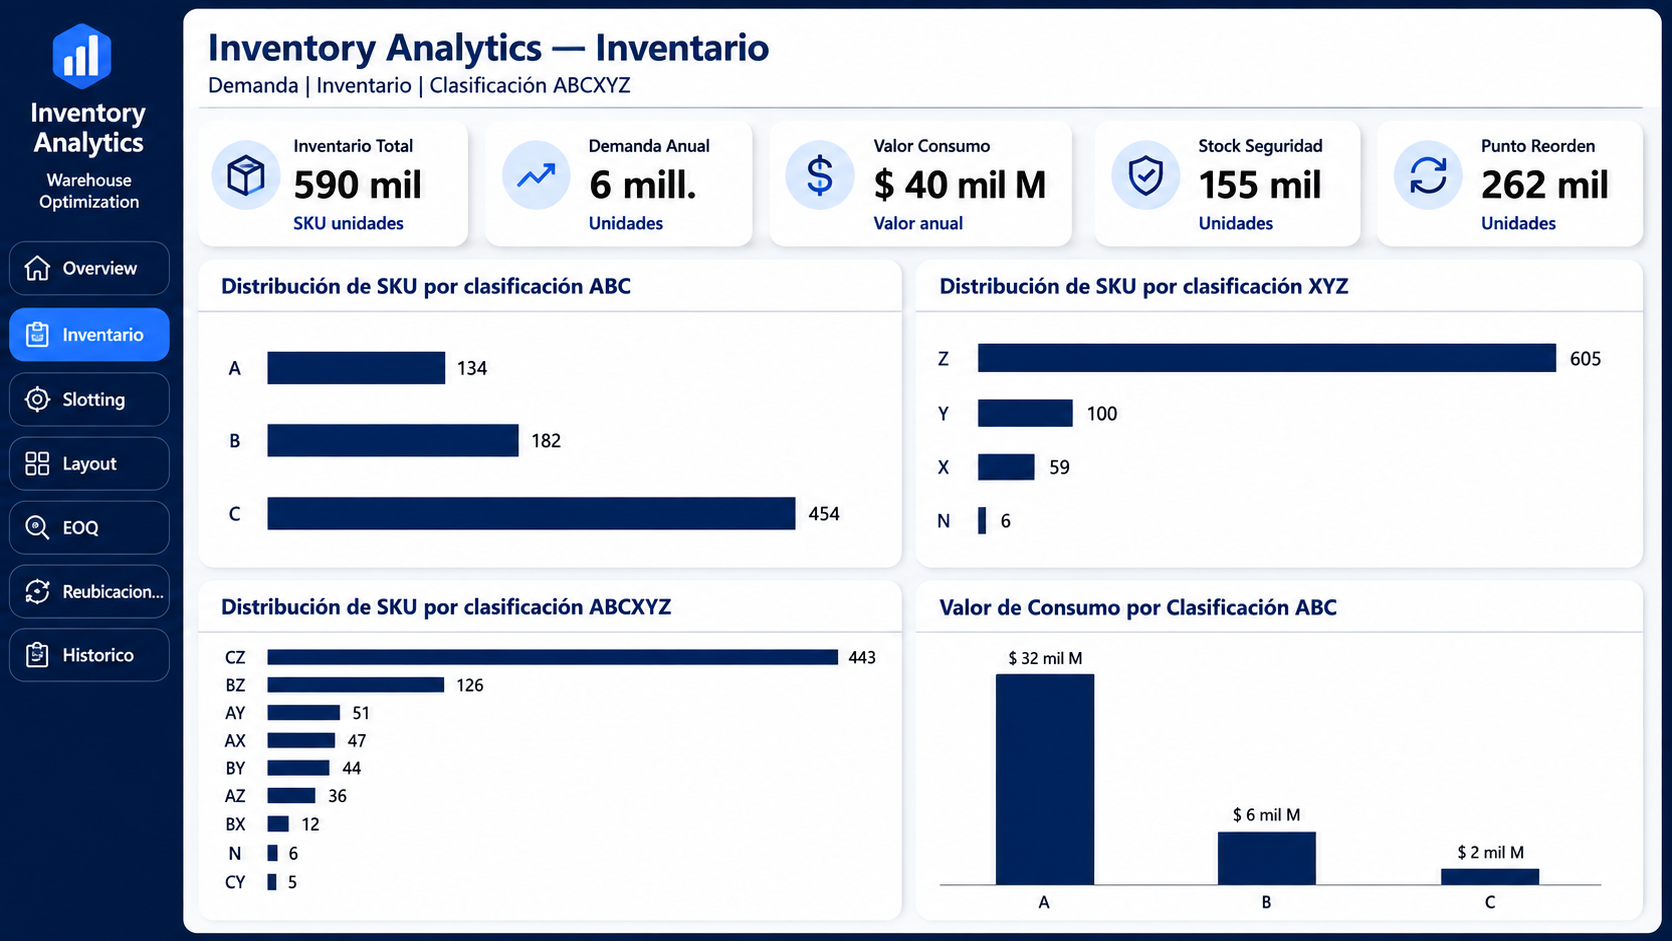

This screenshot's page, from the dashboard's own definition file:
{"tool":"powerbi","page":{"name":"Inventario","canvas":[1920,1080],"ordinal":1},"visuals":[{"type":"group","id":"g1","title":"Grupo 1","box":[0,25,1885,1040],"z":0},{"type":"shape","box":[240,25,1645,1040],"z":0,"group":"g1"},{"type":"shape","box":[0,25.9,239.8,1026],"z":1000,"group":"g1"},{"type":"cardVisual","title":"Total SKU","fields":{"Data":["Medidas.Inventario Total"]},"box":[386,138.8,200,110],"z":1000},{"type":"cardVisual","title":"SKU Optimos","fields":{"Data":["Medidas.Demanda Anual"]},"box":[634,138.8,200,110],"z":2000},{"type":"shape","box":[42.5,200,170,37.5],"z":2000,"group":"g1"},{"type":"textbox","box":[28.1,99.4,185.8,118.8],"z":3000,"group":"g1"},{"type":"cardVisual","title":"SKU a Mover","fields":{"Data":["Medidas.Valor Consumo"]},"box":[882,138.8,250.6,110.2],"z":3000},{"type":"cardVisual","title":"SKU Mover Urgentes","fields":{"Data":["Medidas.Stock Seguridad"]},"box":[1178,138.8,240,110],"z":4000},{"type":"pageNavigator","box":[28.1,237.6,185.8,773.3],"z":4000,"group":"g1"},{"type":"textbox","box":[256,40,510,75],"z":5000,"group":"g1"},{"type":"cardVisual","title":"SKU Sin Ubicacion","fields":{"Data":["Medidas.Punto Reorden"]},"box":[1462,138.8,274.3,110.2],"z":5000},{"type":"shape","box":[240,105,1640,36],"z":6000,"group":"g1"},{"type":"barChart","title":"Distribución de SKU por clasificación ABC","fields":{"Category":["dim_producto.abc"],"Y":["Medidas.Total SKU"]},"box":[276.5,257,766.8,399.6],"z":6000},{"type":"barChart","title":"Distribución de SKU por clasificación XYZ","fields":{"Category":["dim_producto.xyz"],"Y":["Medidas.Total SKU"]},"box":[1080,257,765.8,400.6],"z":7000},{"type":"barChart","title":"Distribución de SKU por clasificación ABCXYZ","fields":{"Category":["dim_abcxyz.abcxyz"],"Y":["Medidas.Total SKU ABCXYZ"]},"box":[276.5,669.6,766.8,399.6],"z":8000},{"type":"columnChart","title":"Valor de Consumo por Clasificación ABC","fields":{"Category":["dim_producto.abc"],"Y":["Medidas.Valor Consumo"]},"box":[1080,669.6,765.8,400.6],"z":9000}]}

Visuals, with their boxes on the page's 1920x1080 design canvas (x1, y1, x2, y2). These are canvas units, not pixel positions in the 1672x941 screenshot, which may show the page scaled, cropped or inside an application window:
"Grupo 1" group: bbox=[0, 25, 1885, 1065]
shape: bbox=[240, 25, 1885, 1065]
shape: bbox=[0, 26, 240, 1052]
"Total SKU" cardVisual: bbox=[386, 139, 586, 249]
"SKU Optimos" cardVisual: bbox=[634, 139, 834, 249]
shape: bbox=[42, 200, 212, 238]
textbox: bbox=[28, 99, 214, 218]
"SKU a Mover" cardVisual: bbox=[882, 139, 1133, 249]
"SKU Mover Urgentes" cardVisual: bbox=[1178, 139, 1418, 249]
pageNavigator: bbox=[28, 238, 214, 1011]
textbox: bbox=[256, 40, 766, 115]
"SKU Sin Ubicacion" cardVisual: bbox=[1462, 139, 1736, 249]
shape: bbox=[240, 105, 1880, 141]
"Distribución de SKU por clasificación ABC" barChart: bbox=[276, 257, 1043, 657]
"Distribución de SKU por clasificación XYZ" barChart: bbox=[1080, 257, 1846, 658]
"Distribución de SKU por clasificación ABCXYZ" barChart: bbox=[276, 670, 1043, 1069]
"Valor de Consumo por Clasificación ABC" columnChart: bbox=[1080, 670, 1846, 1070]
